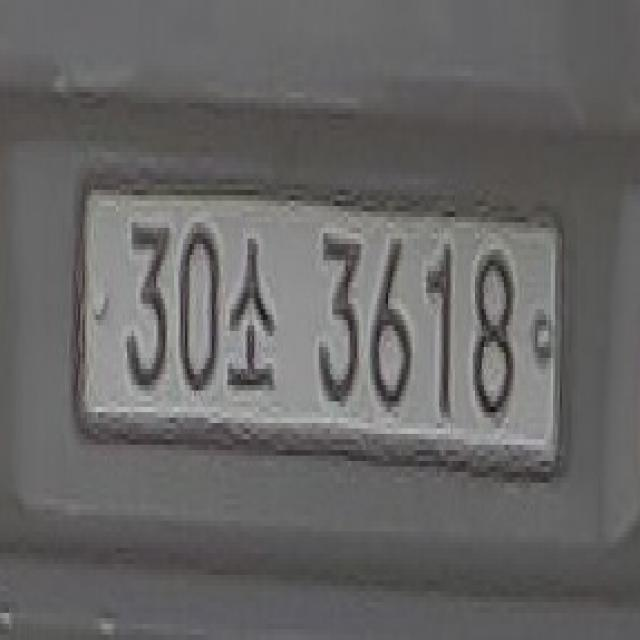0: (176, 217, 221, 390)
1: (424, 238, 457, 418)
3: (314, 228, 364, 407), (127, 211, 174, 396)
6: (363, 228, 415, 412)
8: (473, 244, 515, 423)
license_plate: (76, 184, 564, 472)
so: (225, 222, 279, 402)
